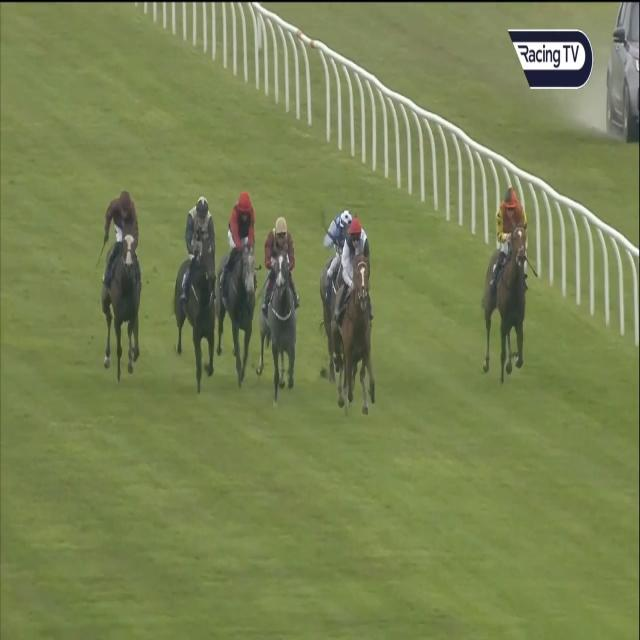horses-racing: (483, 188, 537, 388), (328, 216, 374, 416), (172, 195, 220, 376), (99, 188, 144, 373), (217, 194, 258, 390), (258, 214, 297, 404), (312, 196, 351, 328)
